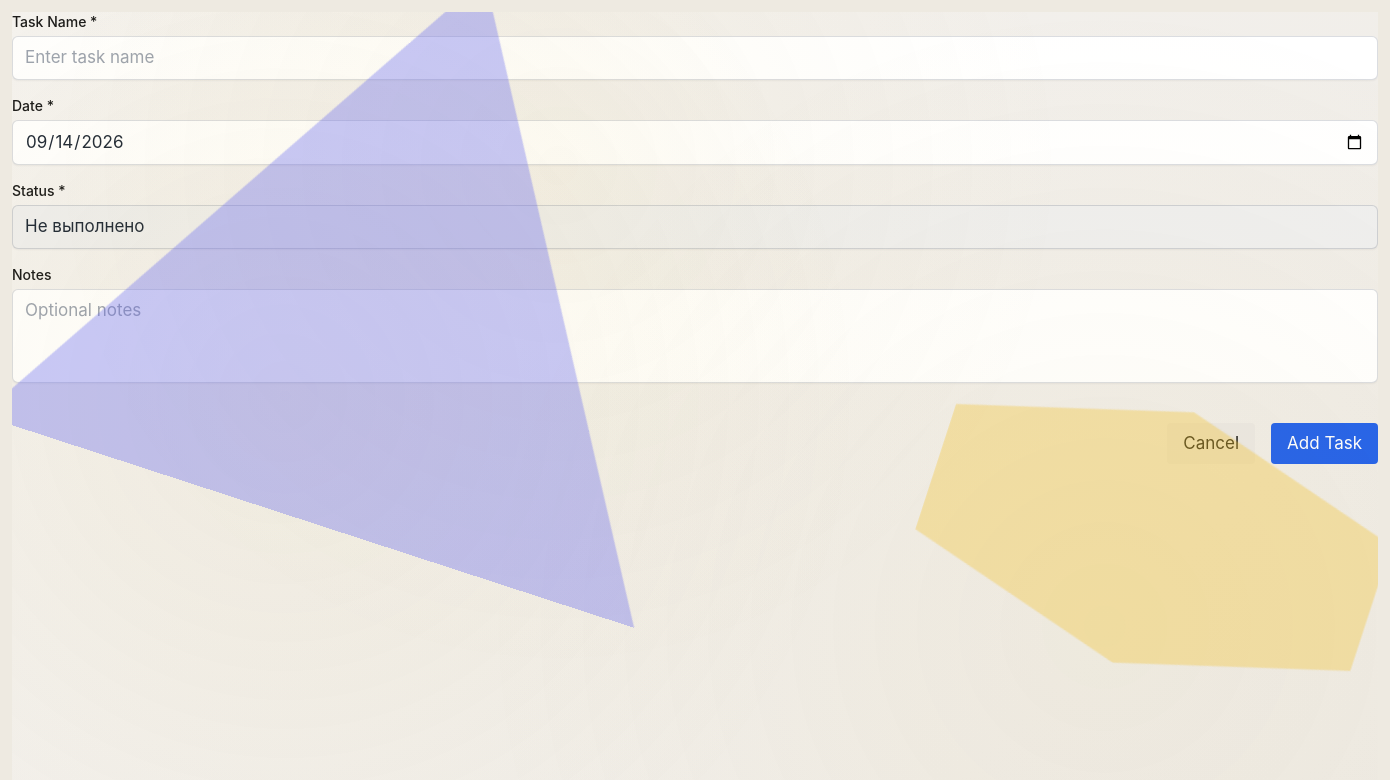
Test: Task Modal Error Handling › should display error when Firebase operation fails
Note: Fill in form
In the field labelled "Task Name *": (695, 58) [12,36,1378,80], type "Test Task"
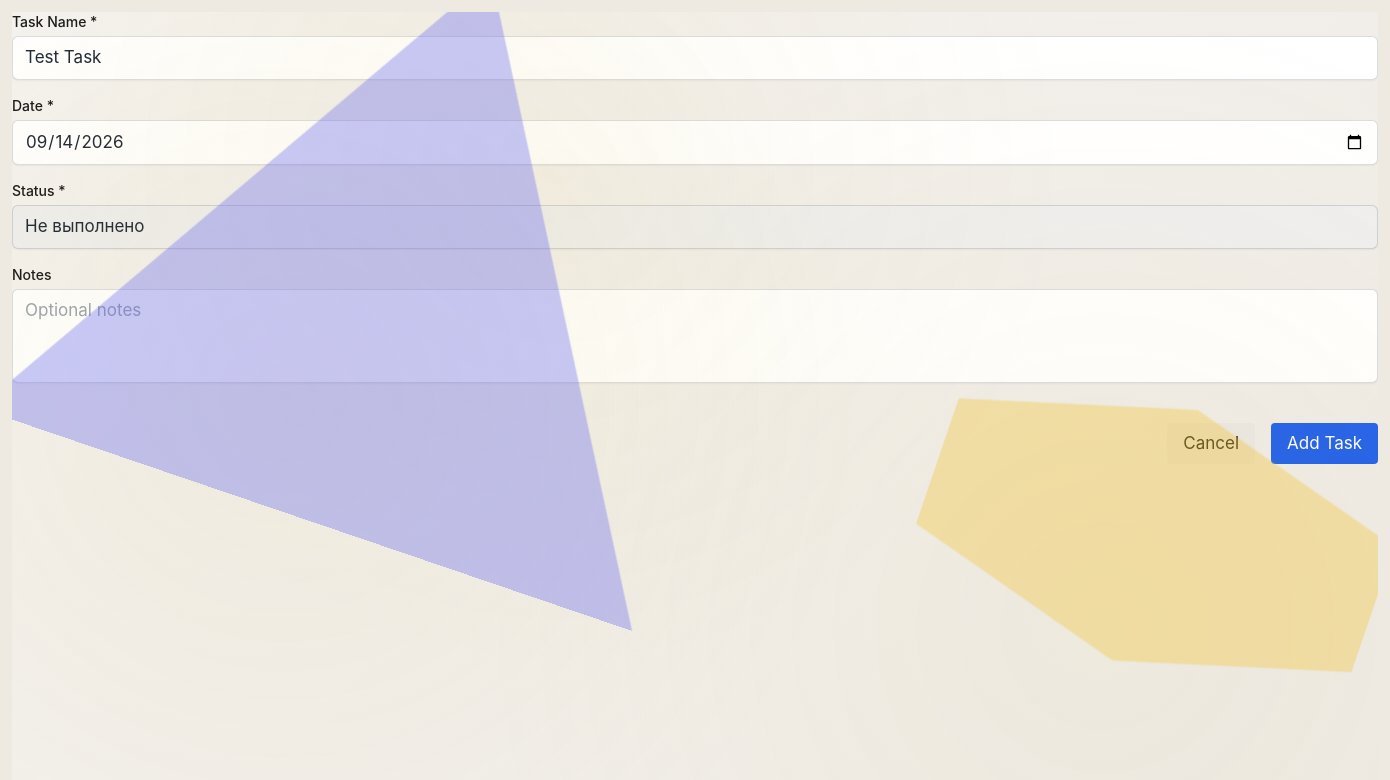
Note: Submit form
Click the button "Add Task": (1325, 443) [1271,422,1378,464]
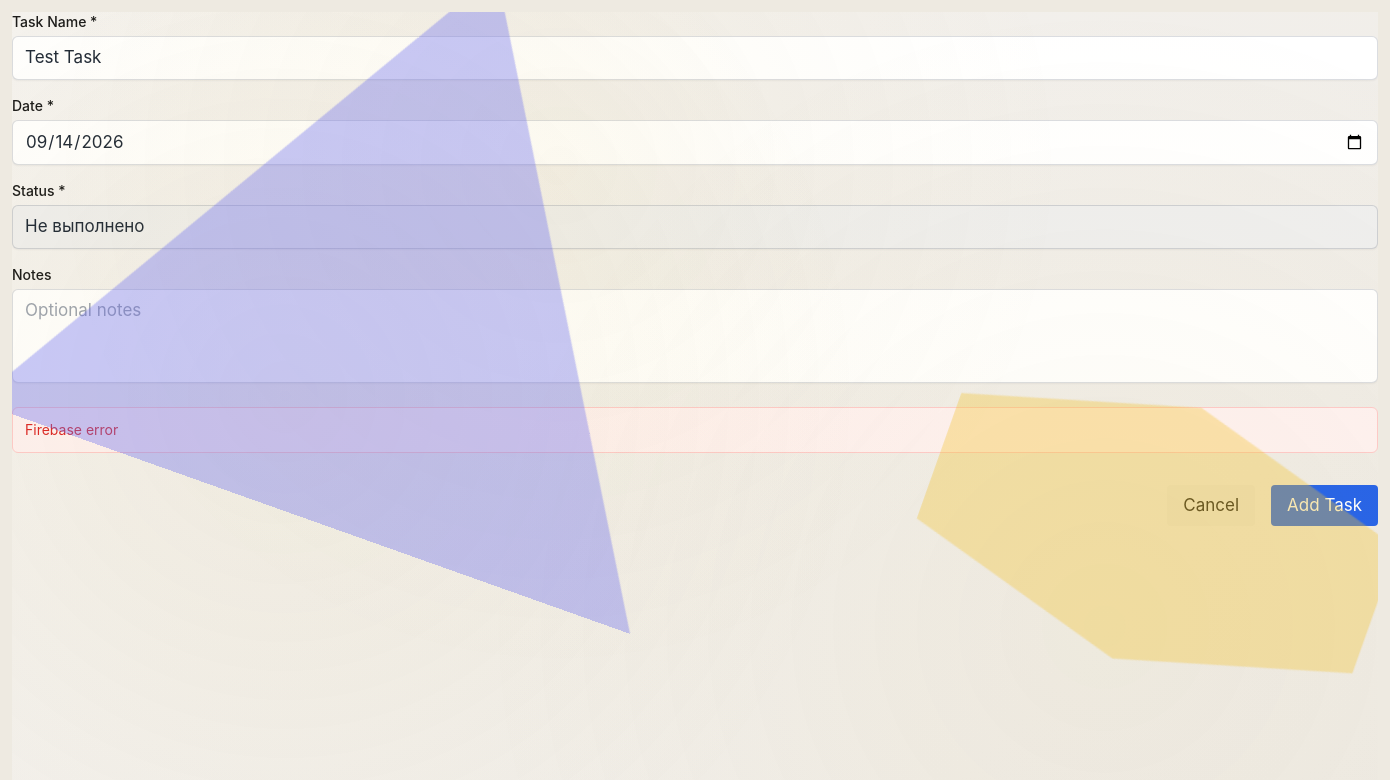
Check: the text "Firebase error" is shown, box [25,420,118,438]
